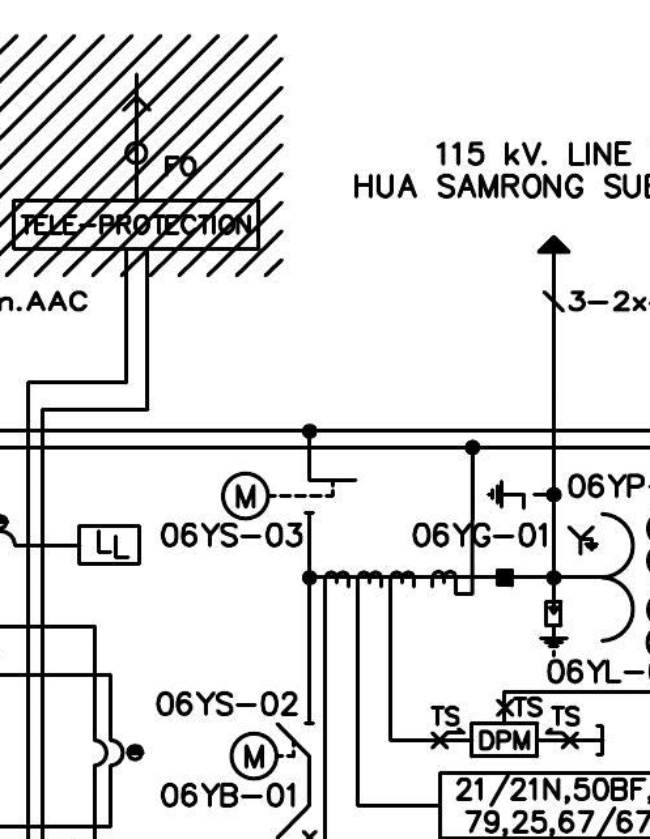115_1way_ds_w_motor: (219, 472, 359, 523), (228, 721, 316, 782)
115_gs: (485, 478, 539, 511)
115_la: (538, 599, 570, 659)
DPM: (469, 721, 539, 759)
LL: (76, 523, 142, 566)
tele_protection: (11, 198, 260, 252)
